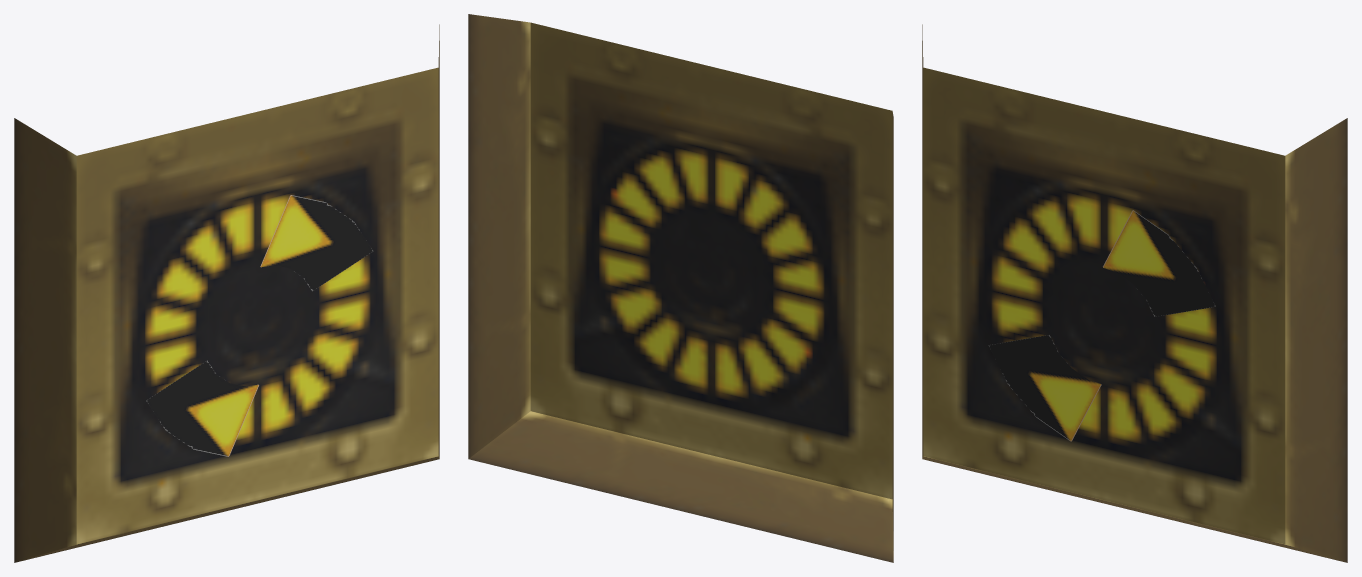
The picture shows the model from 3 angles, left to right: view 1: azimuth 30°, elevation 25°; view 2: azimuth 150°, elevation 25°; view 3: azimuth 330°, elevation 25°; orthographic projection.
Parts seen in each view (by area): view 1: respawnpad.model-MeshNodes["mesh_respawnbase"], respawnpad.model-MeshNodes["mesh_arrows"]; view 2: respawnpad.model-MeshNodes["mesh_respawnbase"]; view 3: respawnpad.model-MeshNodes["mesh_respawnbase"], respawnpad.model-MeshNodes["mesh_arrows"].
Part boxes in pixels (x1,y1,x2,y2): respawnpad.model-MeshNodes["mesh_respawnbase"]: [14, 24, 439, 562]; respawnpad.model-MeshNodes["mesh_arrows"]: [146, 195, 373, 456]; respawnpad.model-MeshNodes["mesh_respawnbase"]: [468, 14, 893, 562]; respawnpad.model-MeshNodes["mesh_respawnbase"]: [922, 24, 1347, 562]; respawnpad.model-MeshNodes["mesh_arrows"]: [988, 210, 1215, 441].
Bounding box in the file's own units: 1 × 1 × 0.1336.
1 material, 1 textured.
